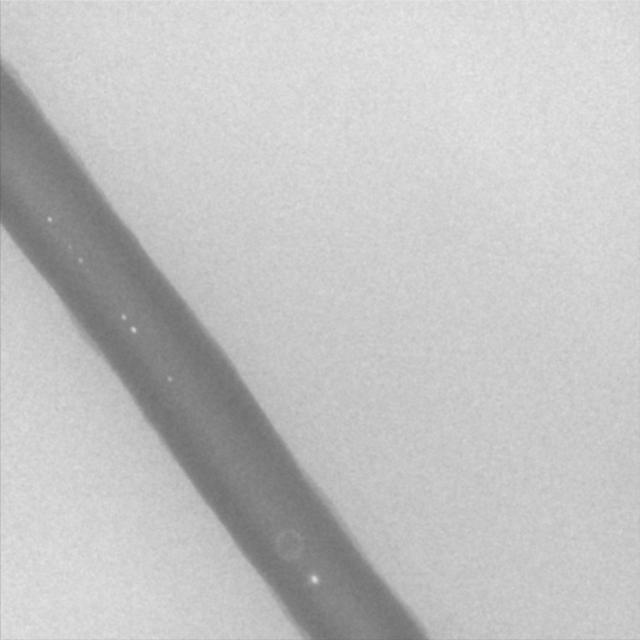air hole: (309, 572, 320, 585), (129, 324, 138, 334), (166, 373, 174, 383), (120, 311, 127, 322), (44, 214, 51, 224), (76, 255, 82, 264)
hollow bead: (273, 527, 304, 562)
